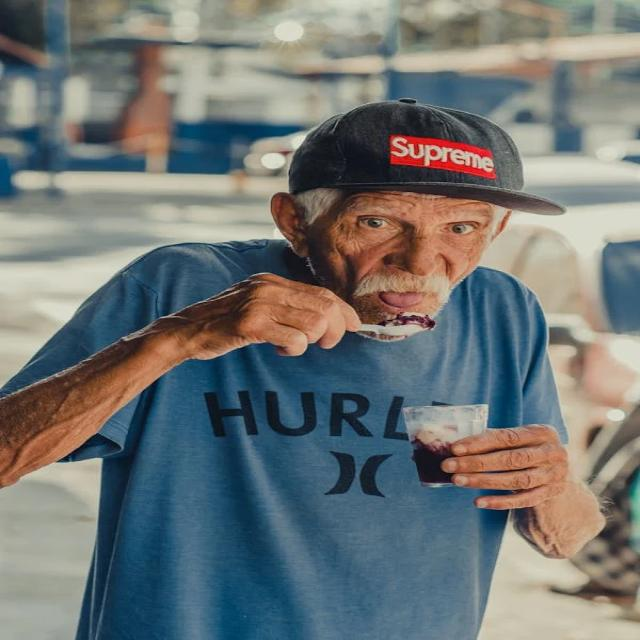Real human 2: (0, 91, 637, 640)
